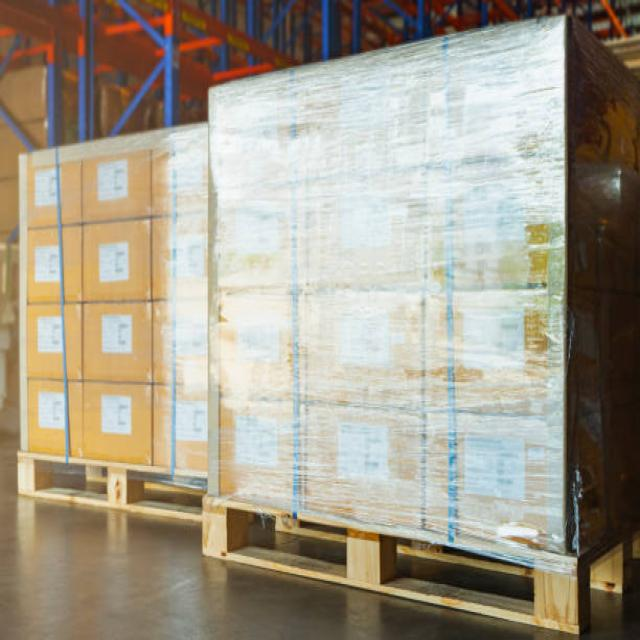Wooden-Pallets: (13, 451, 589, 640), (197, 491, 590, 634), (9, 447, 203, 529)
